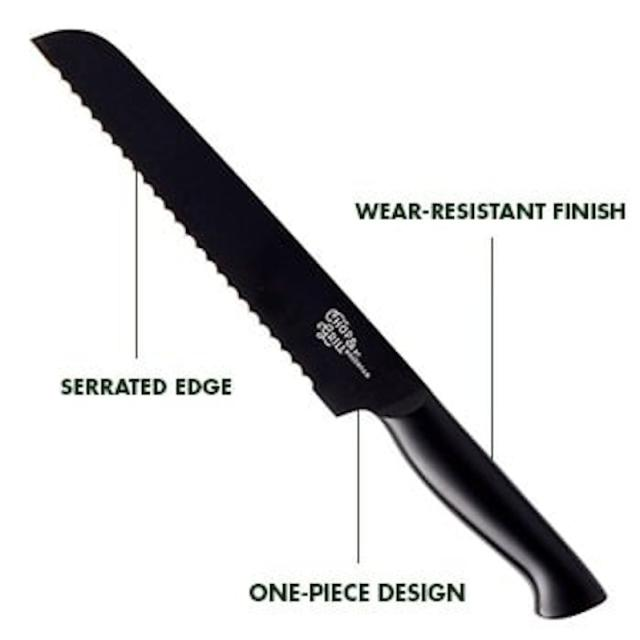Knife: (32, 30, 606, 618)
